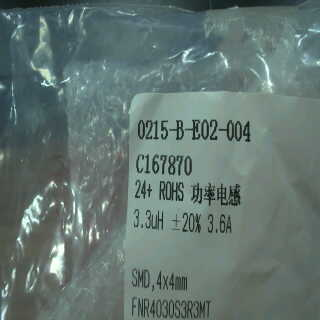3.3uH: (131, 203, 168, 237)
